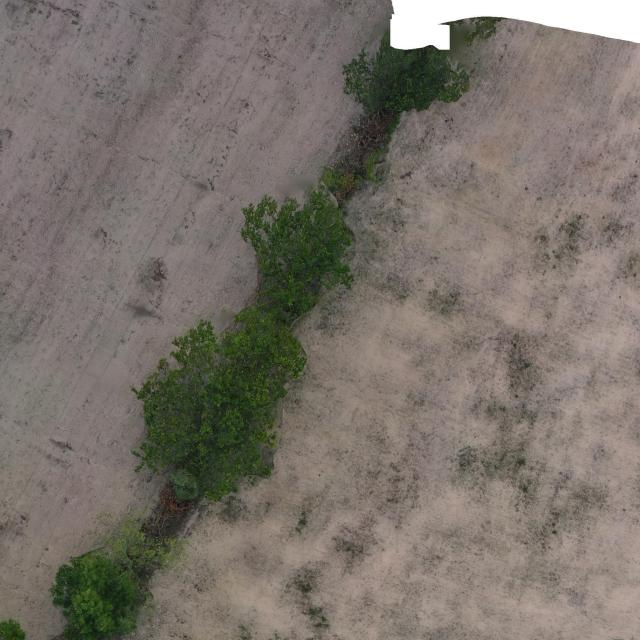Tree: (130, 304, 308, 502), (240, 183, 356, 316), (342, 29, 470, 145), (48, 547, 154, 640), (93, 501, 189, 582), (321, 146, 390, 192), (0, 617, 27, 640)
